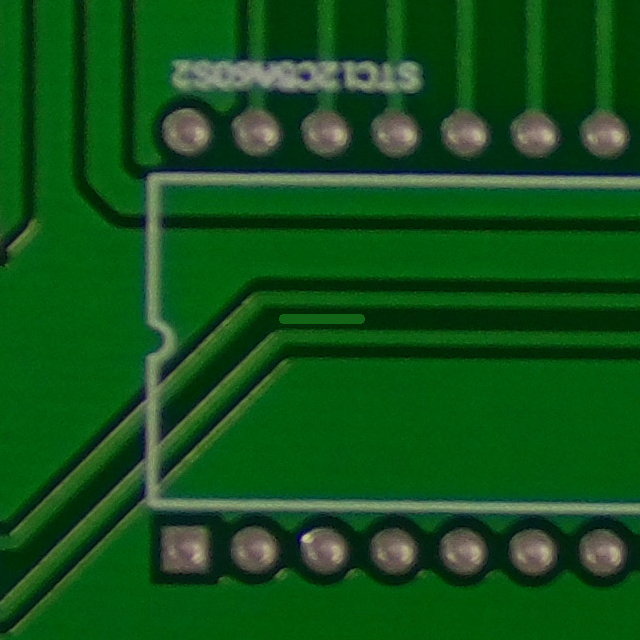spurious_copper: (270, 298, 370, 343)
